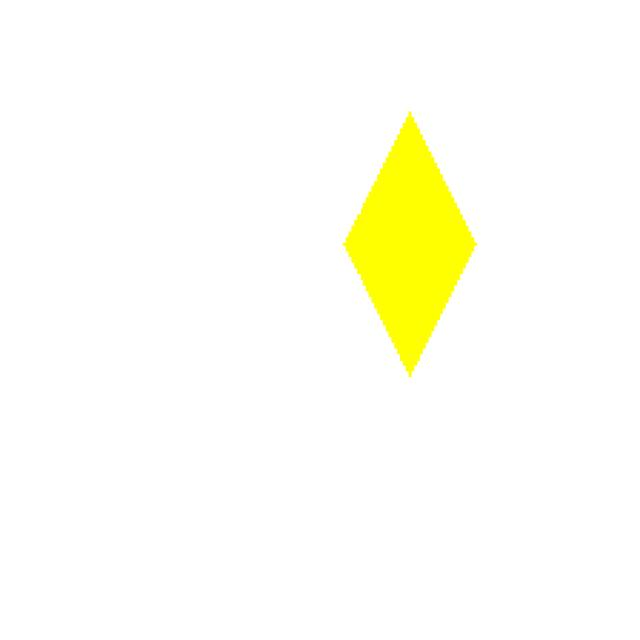Kite: (316, 77, 538, 399)
